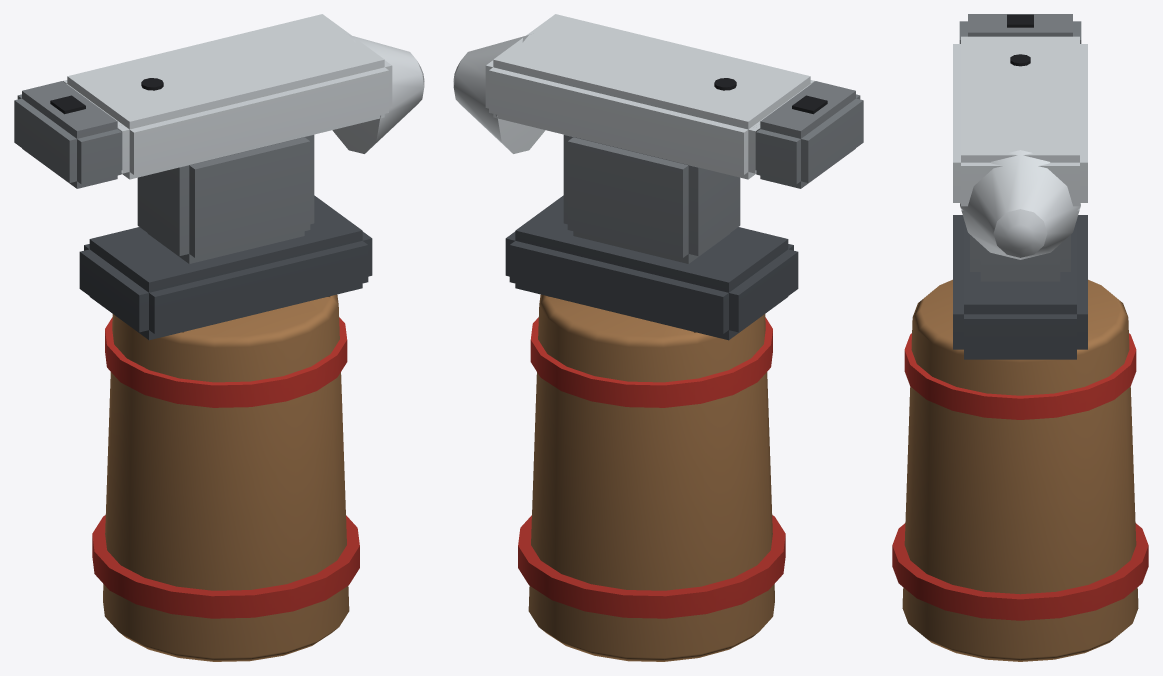
File: SM_Anvil_Stump_01.glb
The picture shows the model from 3 angles, left to right: view 1: azimuth 30°, elevation 25°; view 2: azimuth 150°, elevation 25°; view 3: azimuth 270°, elevation 25°; orthographic projection. The views are drawn at different scales.
Visible parts, largest first — view 1: SM_Anvil_Stump_01; view 2: SM_Anvil_Stump_01; view 3: SM_Anvil_Stump_01.
Boxes of the visible parts, bbox=[...] form: SM_Anvil_Stump_01: bbox=[14, 14, 424, 661]; SM_Anvil_Stump_01: bbox=[453, 14, 863, 661]; SM_Anvil_Stump_01: bbox=[892, 14, 1148, 661].
Size of the model in its own units: 0.612 by 0.855 by 0.38.
1 material, 1 textured.
